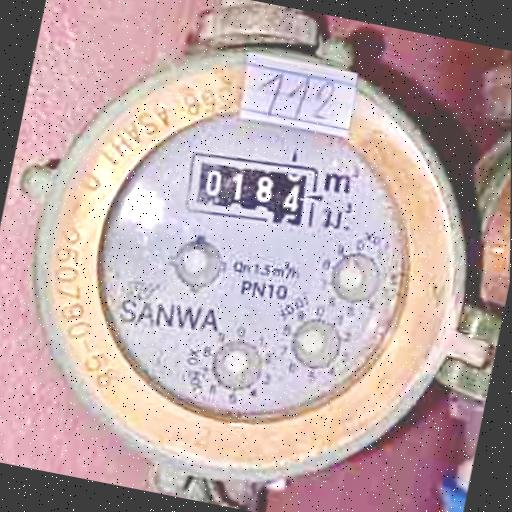0: (194, 161, 231, 207)
1: (220, 165, 256, 211)
4: (267, 170, 311, 228)
8: (245, 167, 281, 214)
border_water_meter_number: (180, 142, 323, 234)
